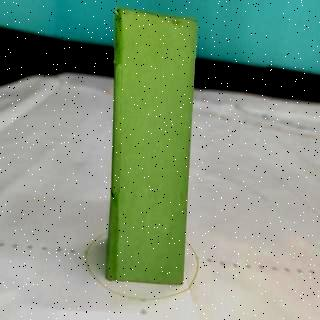greenbox: (106, 5, 199, 284)
